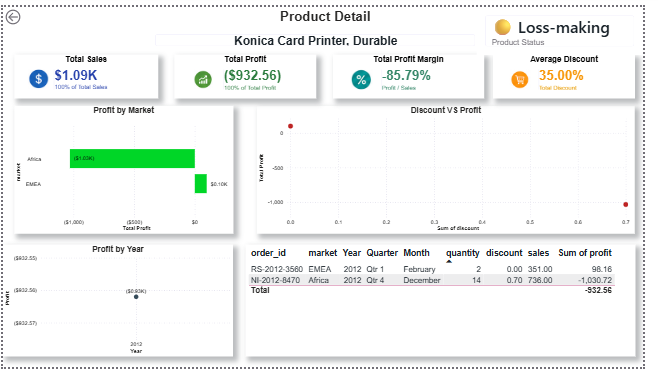

The dashboard page shown, as its layout file describes it:
{"tool":"powerbi","page":{"name":"DT-Product Detail","canvas":[1280,720],"ordinal":4},"visuals":[{"type":"scatterChart","title":"Discount VS Profit","fields":{"Y":["DimOrder.Total Profit"],"X":["Sum(public orders.discount)"],"Category":["public orders.order_id"]},"box":[508,198,756,256],"z":0},{"type":"actionButton","box":[0,0,100,40],"z":1000},{"type":"cardVisual","fields":{"Data":["DimOrder.Product Detail Title"]},"box":[288,38,674,58],"z":2000},{"type":"textbox","box":[328,0,634,40],"z":3000},{"type":"cardVisual","title":"Total Sales","fields":{"Data":["DimOrder.Total Sales"]},"box":[22,96,288,88],"z":4000},{"type":"cardVisual","title":"Total Profit","fields":{"Data":["DimOrder.Total Profit"]},"box":[342,96,284,88],"z":5000},{"type":"cardVisual","title":"Total Profit Margin","fields":{"Data":["DimOrder.Profit Margin"]},"box":[660,96,302,88],"z":6000},{"type":"cardVisual","title":"Average Discount","fields":{"Data":["DimOrder.Avg Discount"]},"box":[980,96,284,88],"z":7000},{"type":"barChart","title":"Profit by Market","fields":{"Category":["public orders.market"],"Y":["DimOrder.Total Profit"]},"box":[22,198,438,256],"z":8000},{"type":"lineChart","title":"Profit by Year","fields":{"Y":["Sum(public orders.profit)"],"Category":["public orders.year"]},"box":[0,476,460,224],"z":9000},{"type":"tableEx","fields":{"Values":["public orders.order_id","public orders.market","public orders.order_date.Variation.Date Hierarchy.Year","public orders.order_date.Variation.Date Hierarchy.Quarter","public orders.order_date.Variation.Date Hierarchy.Month","public orders.quantity","public orders.discount","public orders.sales","Sum(public orders.profit)"]},"box":[484,476,780,224],"z":10000},{"type":"cardVisual","fields":{"Data":["DimOrder.Product Status"]},"box":[948,0,332,96],"z":11000}]}

Visuals, with their boxes in screenshot pixels (x1, y1, x2, y2), scaled from the page's 1280x720 canvas onto the 658x377 screenshot:
"Discount VS Profit" scatterChart: x1=261 y1=104 x2=650 y2=238
actionButton: x1=0 y1=0 x2=51 y2=21
cardVisual - DimOrder.Product Detail Title: x1=148 y1=20 x2=495 y2=50
textbox: x1=169 y1=0 x2=495 y2=21
"Total Sales" cardVisual: x1=11 y1=50 x2=159 y2=96
"Total Profit" cardVisual: x1=176 y1=50 x2=322 y2=96
"Total Profit Margin" cardVisual: x1=339 y1=50 x2=495 y2=96
"Average Discount" cardVisual: x1=504 y1=50 x2=650 y2=96
"Profit by Market" barChart: x1=11 y1=104 x2=236 y2=238
"Profit by Year" lineChart: x1=0 y1=249 x2=236 y2=367
tableEx - public orders.order_id x public orders.market: x1=249 y1=249 x2=650 y2=367
cardVisual - DimOrder.Product Status: x1=487 y1=0 x2=657 y2=50
